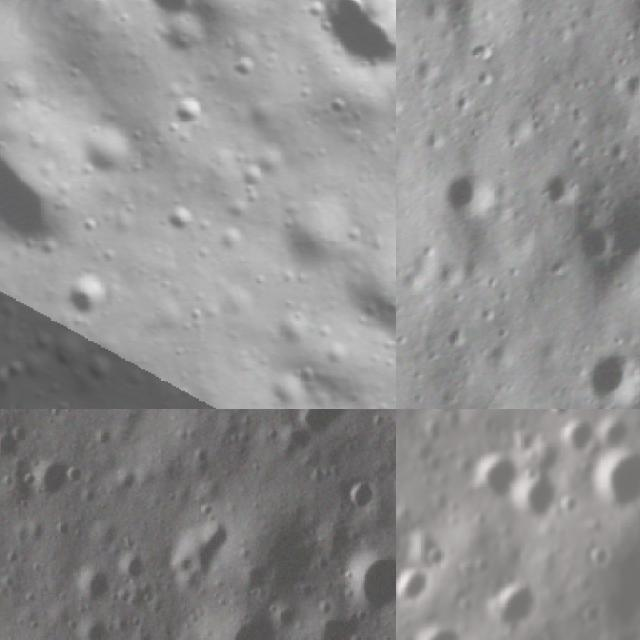crater: (288, 0, 396, 99), (65, 109, 142, 197), (166, 519, 243, 582), (584, 440, 640, 523), (511, 468, 567, 541), (341, 544, 396, 616), (56, 264, 116, 327), (460, 448, 522, 508), (485, 579, 547, 638), (154, 82, 212, 140), (151, 188, 207, 246), (200, 606, 285, 640), (589, 348, 640, 402), (129, 0, 212, 26), (32, 455, 74, 503), (289, 409, 355, 439), (396, 565, 436, 614), (445, 172, 499, 208), (338, 474, 381, 515), (561, 409, 598, 456), (71, 563, 111, 603), (114, 547, 150, 586), (403, 620, 472, 640), (582, 222, 616, 260), (74, 618, 115, 640), (112, 462, 140, 494), (90, 424, 120, 452), (0, 426, 22, 463), (61, 460, 85, 490), (425, 409, 473, 424), (9, 419, 33, 445), (544, 409, 581, 424), (51, 516, 73, 540)
